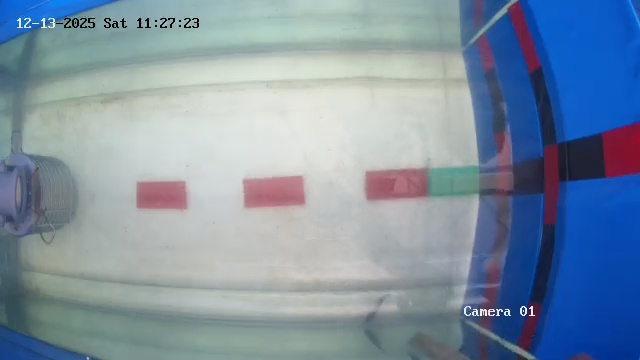fish: (298, 310, 336, 329)
